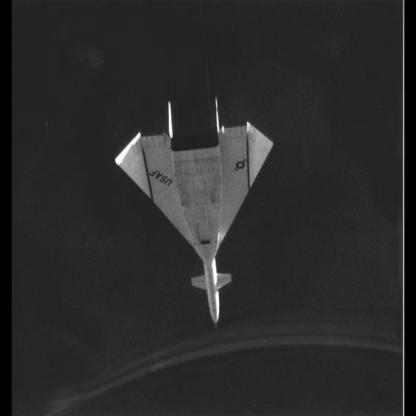XB70: (115, 97, 275, 330)
